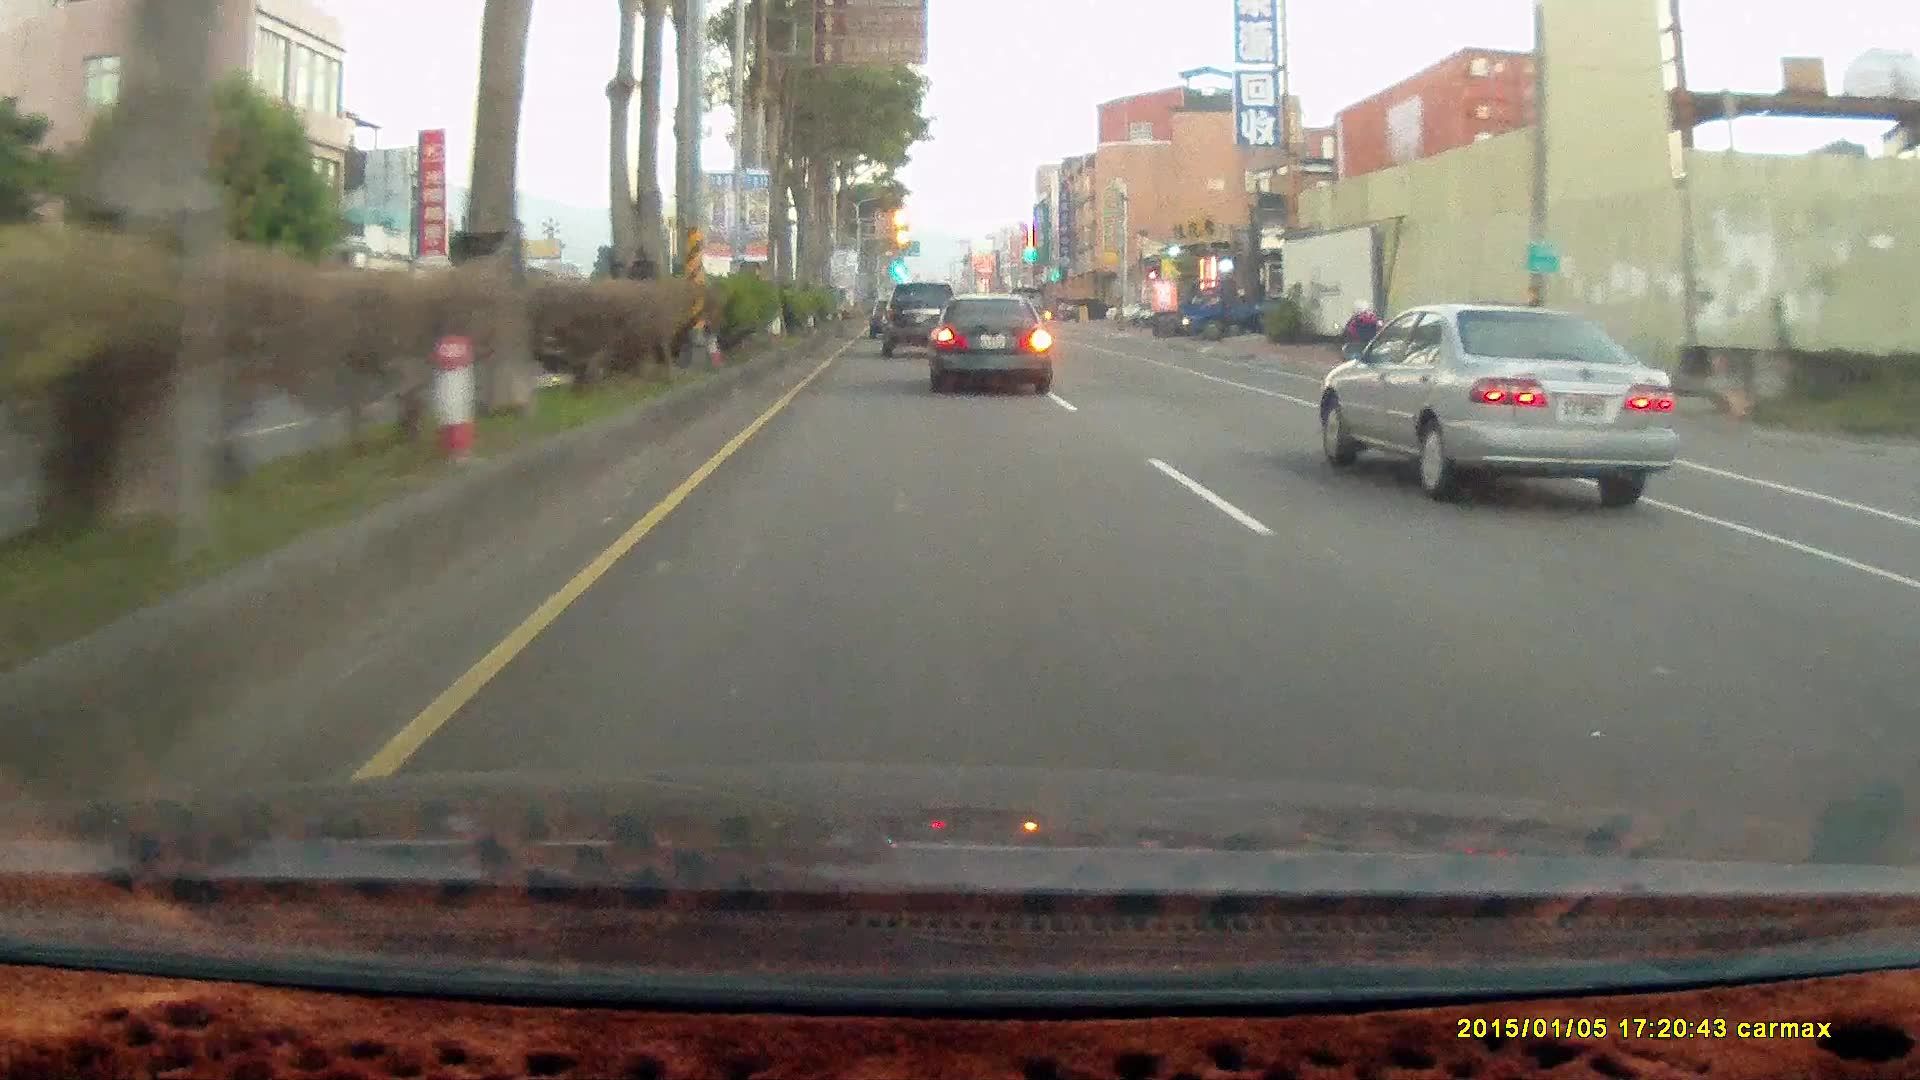rider: (1332, 291, 1387, 400), (1334, 295, 1394, 390)
vehicle: (1318, 301, 1679, 508), (1317, 304, 1678, 499), (922, 291, 1052, 394), (934, 299, 1062, 394), (1176, 273, 1289, 342), (1176, 276, 1290, 340), (884, 283, 962, 359), (882, 281, 960, 355), (1064, 295, 1112, 318)
